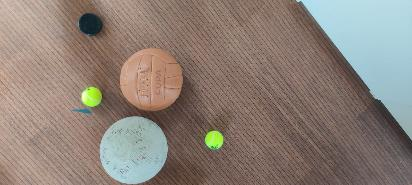Football size 5: (98, 113, 170, 183), (119, 46, 183, 111)
hockey puck: (76, 10, 102, 38)
tennis: (80, 86, 102, 107), (204, 128, 224, 150)
